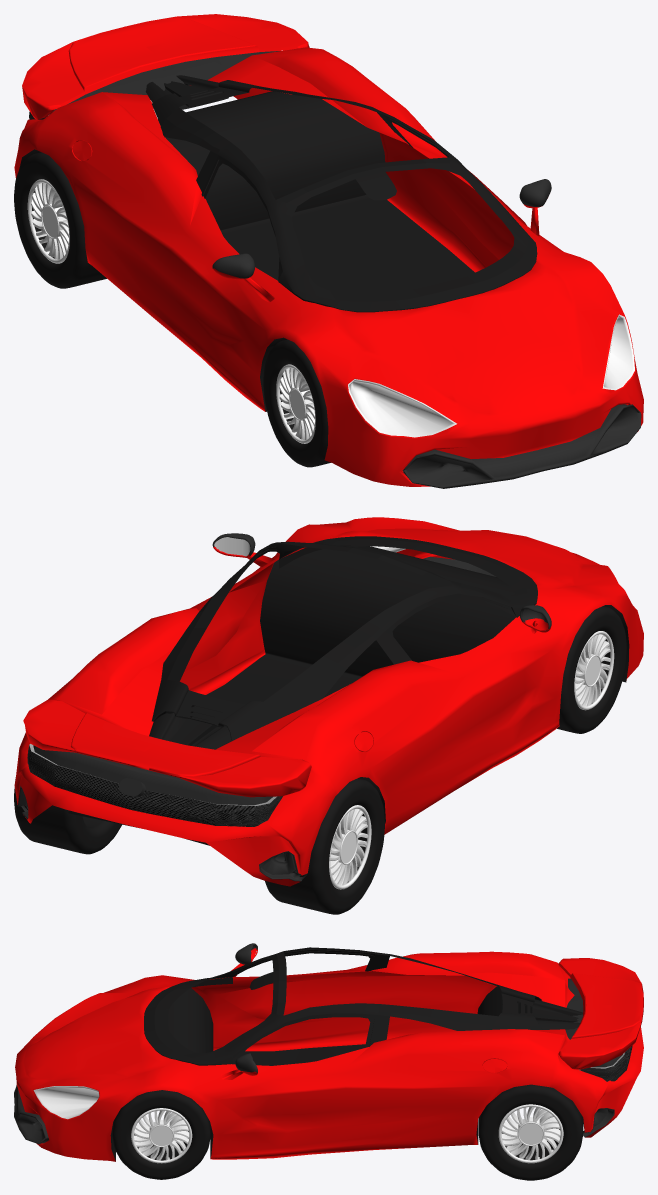
Rendered from mclarencar3.fbx.
The picture shows the model from 3 angles, top to bottom: view 1: azimuth 30°, elevation 25°; view 2: azimuth 150°, elevation 25°; view 3: azimuth 270°, elevation 25°; orthographic projection. The views are drawn at different scales.
Visible parts, largest first — view 1: mainbody, polySurface32, visor1, pCylinder10, detailbumper, pCylinder9, brand, polySurface30, polySurface34, polySurface35; view 2: mainbody, polySurface32, visor1, brand, pCylinder10, pCylinder9, polySurface34, pCylinder11, polySurface35, polySurface30; view 3: mainbody, polySurface32, pCylinder11, pCylinder8, visor1, polySurface34, brand, polySurface35, detailbumper, polySurface30.
Part boxes in pixels (<box>): mainbody: <box>14,47,643,486</box>; polySurface32: <box>160,87,537,312</box>; visor1: <box>22,14,309,119</box>; pCylinder10: <box>14,152,106,288</box>; detailbumper: <box>402,404,641,488</box>; pCylinder9: <box>263,339,330,467</box>; brand: <box>29,51,280,119</box>; polySurface30: <box>212,179,551,302</box>; polySurface34: <box>152,80,289,125</box>; polySurface35: <box>145,75,222,108</box>; mainbody: <box>14,517,643,886</box>; polySurface32: <box>161,536,537,712</box>; visor1: <box>23,699,311,797</box>; brand: <box>27,744,282,826</box>; pCylinder10: <box>265,778,384,914</box>; pCylinder9: <box>557,606,626,733</box>; polySurface34: <box>152,679,292,740</box>; pCylinder11: <box>14,777,121,854</box>; polySurface35: <box>149,713,231,749</box>; polySurface30: <box>212,533,551,633</box>; mainbody: <box>15,951,643,1161</box>; polySurface32: <box>144,947,498,1065</box>; pCylinder11: <box>478,1084,583,1180</box>; pCylinder8: <box>112,1090,210,1179</box>; visor1: <box>558,958,643,1069</box>; polySurface34: <box>490,983,542,1029</box>; brand: <box>565,978,632,1081</box>; polySurface35: <box>532,999,582,1029</box>; detailbumper: <box>14,1085,48,1144</box>; polySurface30: <box>221,943,257,1079</box>.
Bounding box in the file's own units: 8.68 × 4.92 × 18.67.
Materials: 7 (1 with a texture image).
